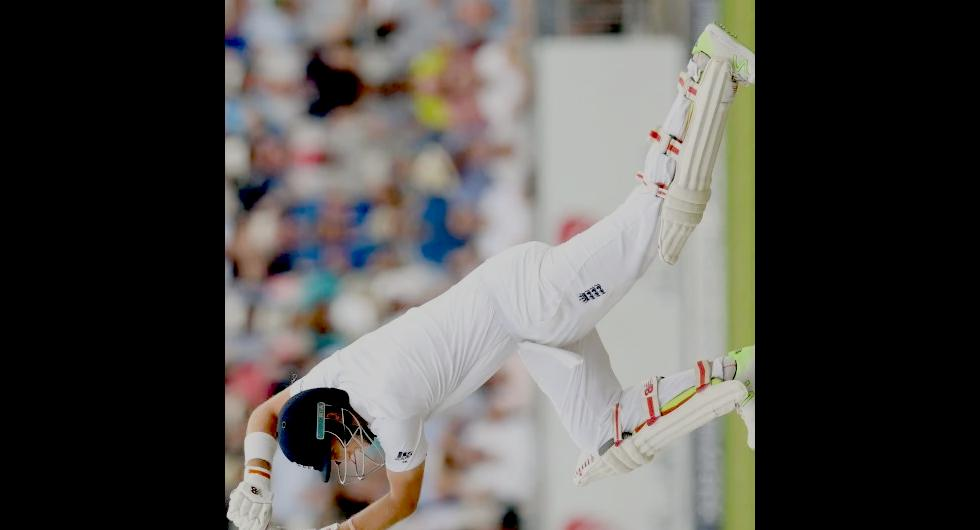batsman: (230, 0, 755, 530)
